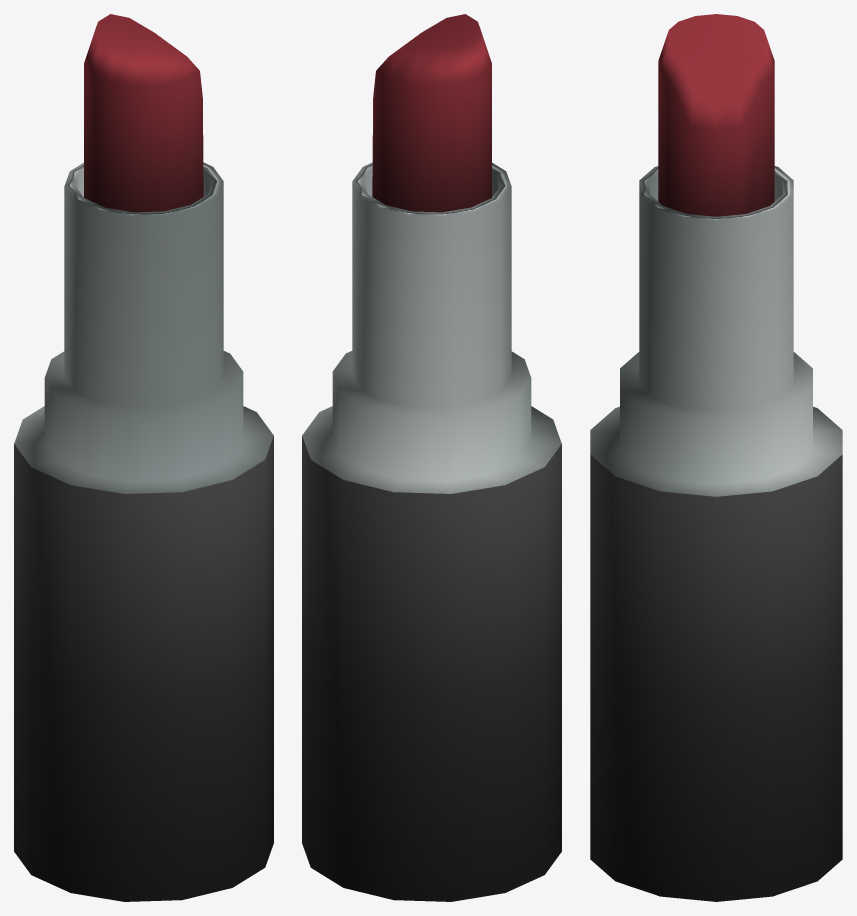
The model's file is rossetto_aereo.fbx.
The picture shows the model from 3 angles, left to right: view 1: azimuth 30°, elevation 25°; view 2: azimuth 150°, elevation 25°; view 3: azimuth 270°, elevation 25°; orthographic projection.
Visible parts, largest first — view 1: pCylinder3; view 2: pCylinder3; view 3: pCylinder3.
Boxes of the visible parts, bbox=[...] form: pCylinder3: bbox=[14, 14, 273, 901]; pCylinder3: bbox=[302, 14, 561, 901]; pCylinder3: bbox=[590, 14, 842, 901].
Size of the model in its own units: 0.1245 by 0.4315 by 0.1213.
